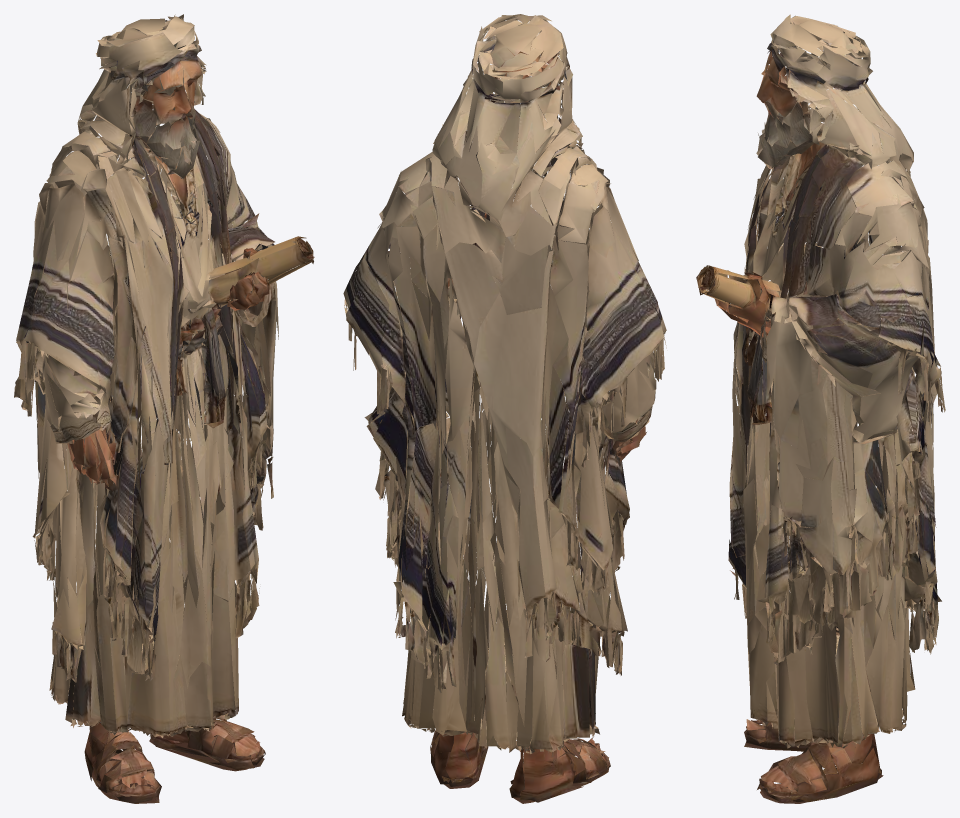
Rendered from npc-jewish.glb.
3 views of the same model, side by side, from view 1: azimuth 30°, elevation 25°; view 2: azimuth 150°, elevation 25°; view 3: azimuth 270°, elevation 25° (orthographic).
Parts seen in each view (by area): view 1: Mesh_0; view 2: Mesh_0; view 3: Mesh_0.
Part boxes in pixels (x1,y1,x2,y2): Mesh_0: (14,14,314,803); Mesh_0: (343,14,666,803); Mesh_0: (696,14,945,803).
Size of the model in its own units: 0.7152 by 1.9 by 0.5808.
1 material, 1 textured.
